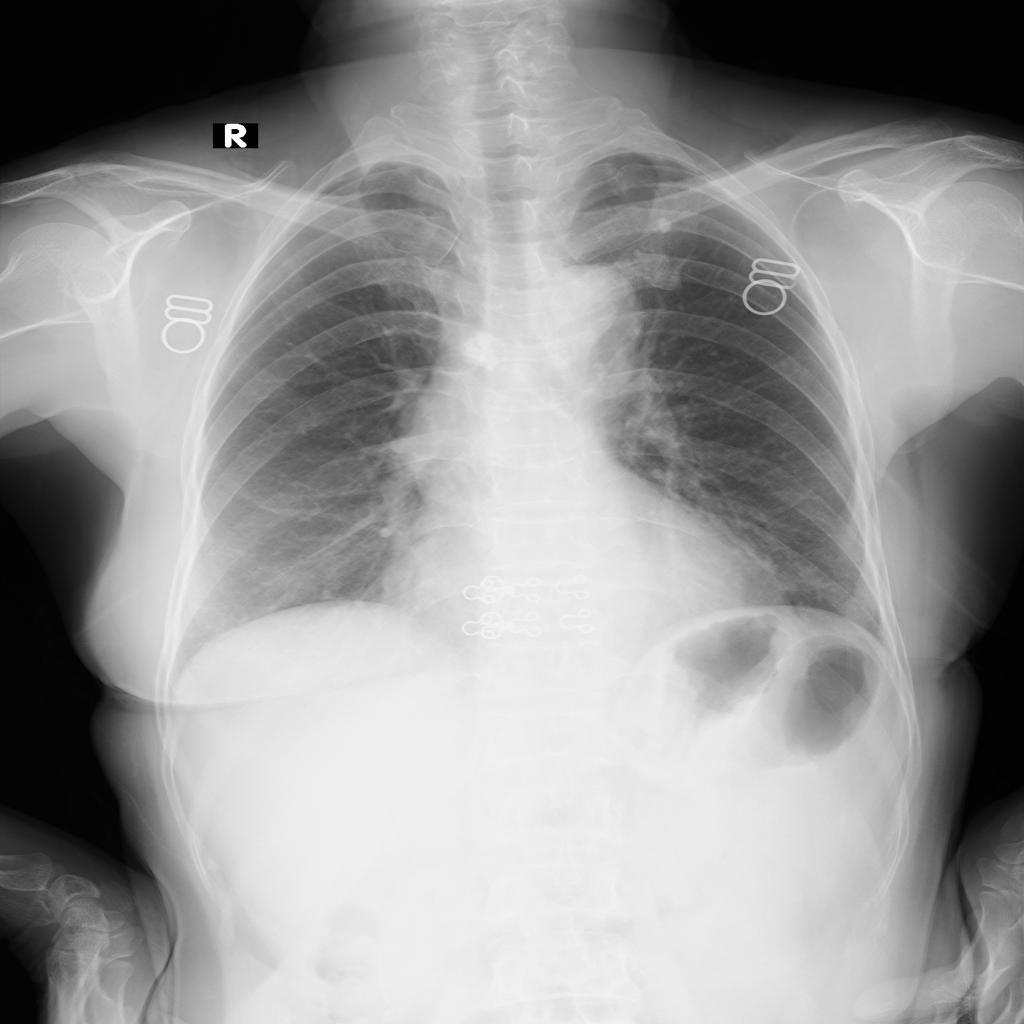Nodule: (656, 215, 674, 234)
